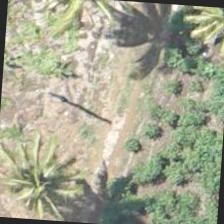Kelapa_Sawit: (12, 136, 108, 224)
